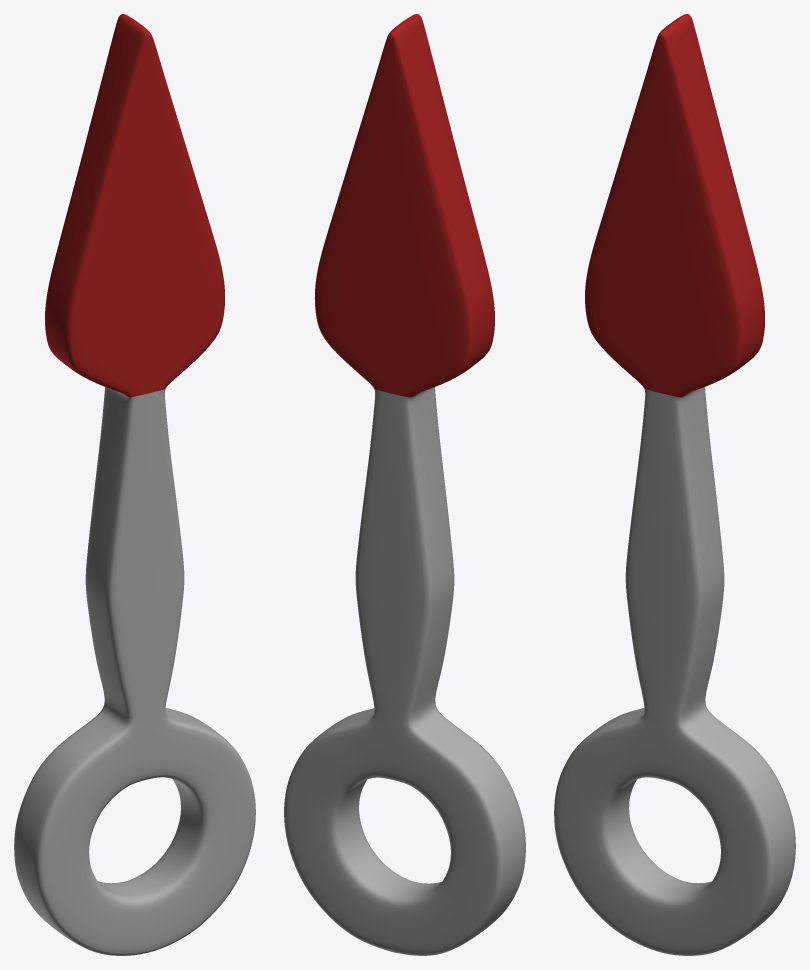
Rendered from HourHand_high.fbx.
3 views of the same model, side by side, from view 1: azimuth 30°, elevation 25°; view 2: azimuth 150°, elevation 25°; view 3: azimuth 330°, elevation 25° (orthographic).
Parts seen in each view (by area): view 1: hourhand_low1; view 2: hourhand_low1; view 3: hourhand_low1.
Boxes of the visible parts, x1=… form: hourhand_low1: x1=14, y1=14, x2=255, y2=955; hourhand_low1: x1=284, y1=14, x2=525, y2=955; hourhand_low1: x1=554, y1=14, x2=795, y2=955.
Size of the model in its own units: 249 by 998 by 55.54.
